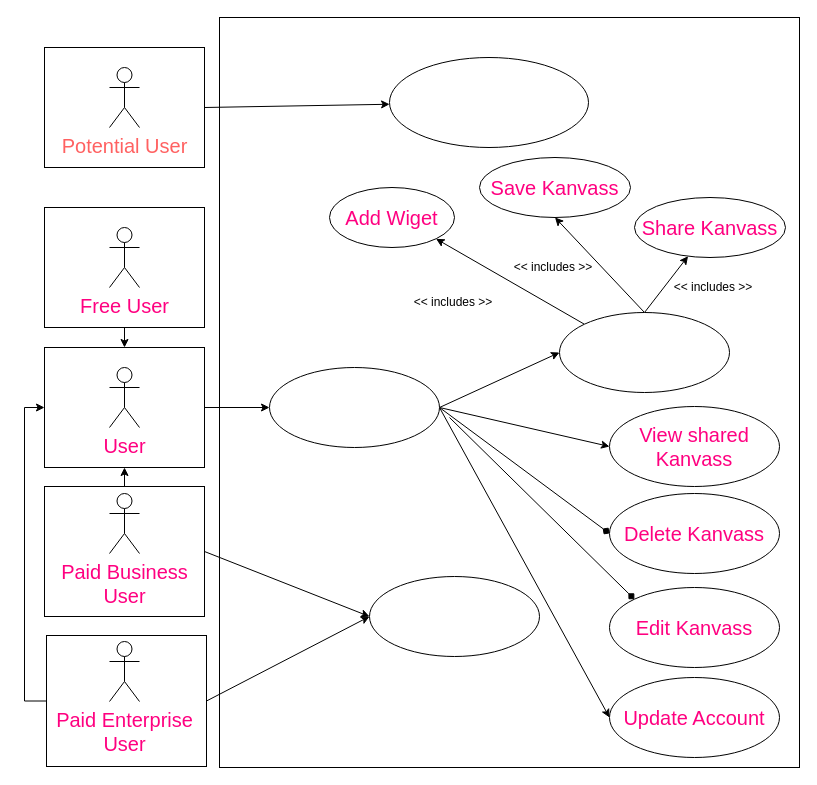
Image size: 817x785. Some labels were removed from this diagram. The centre of each missing label's shape, as x and y in pixels:
"Create new Kanvass" goes at pixel 644 352.
"Login to Kanvass" goes at pixel 354 407.
"Pay Bill" goes at pixel 454 616.
"Register a Kanvass Account" goes at pixel 488 102.
